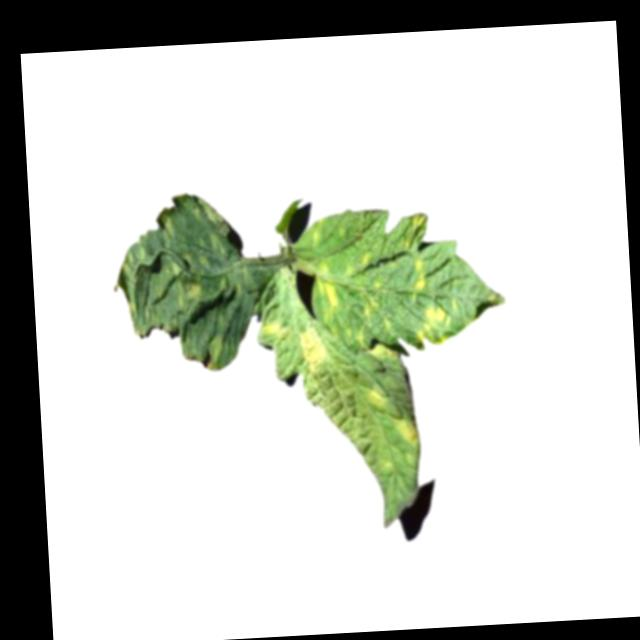Leaf_Mold: (302, 201, 516, 354), (110, 191, 257, 377), (300, 326, 322, 371), (258, 320, 288, 345), (395, 416, 419, 444), (368, 383, 389, 411)
